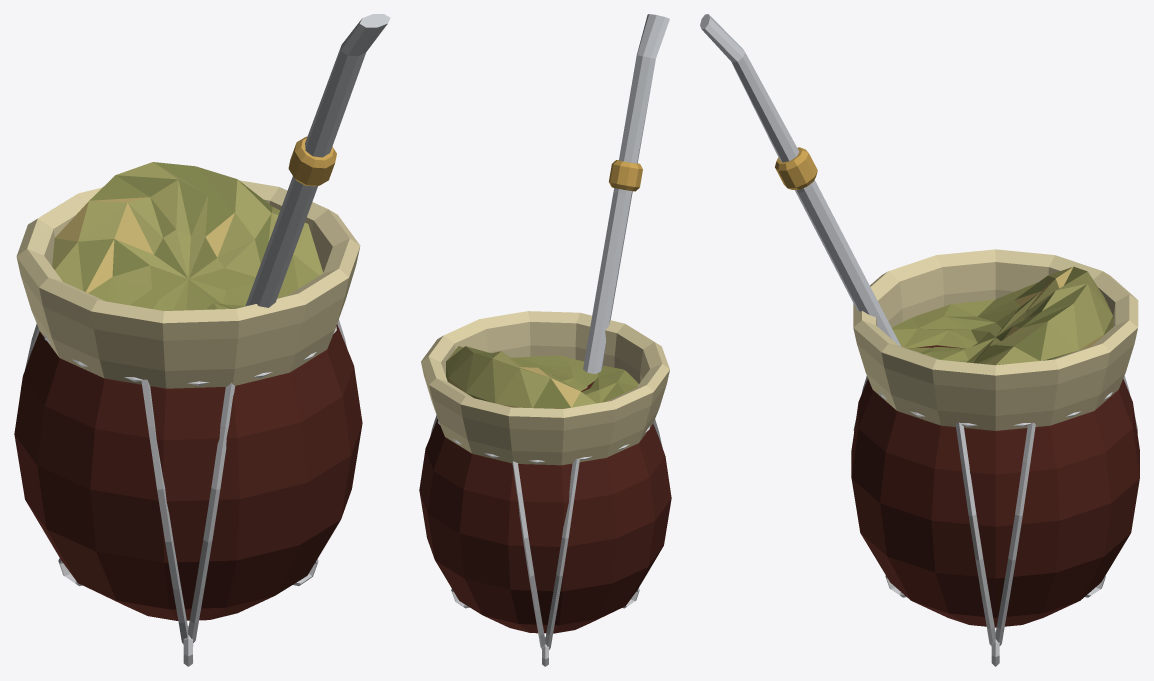
The model's file is mate.glb.
The picture shows the model from 3 angles, left to right: view 1: azimuth 30°, elevation 25°; view 2: azimuth 150°, elevation 25°; view 3: azimuth 270°, elevation 25°; orthographic projection. The views are drawn at different scales.
Visible parts, largest first — view 1: Mate; view 2: Mate; view 3: Mate.
Part boxes in pixels (left/top/right/bottom): Mate: left=14, top=14, right=390, bottom=666; Mate: left=419, top=14, right=671, bottom=666; Mate: left=700, top=14, right=1139, bottom=666.
Bounding box in the file's own units: 0.0827 × 0.1862 × 0.1219.
